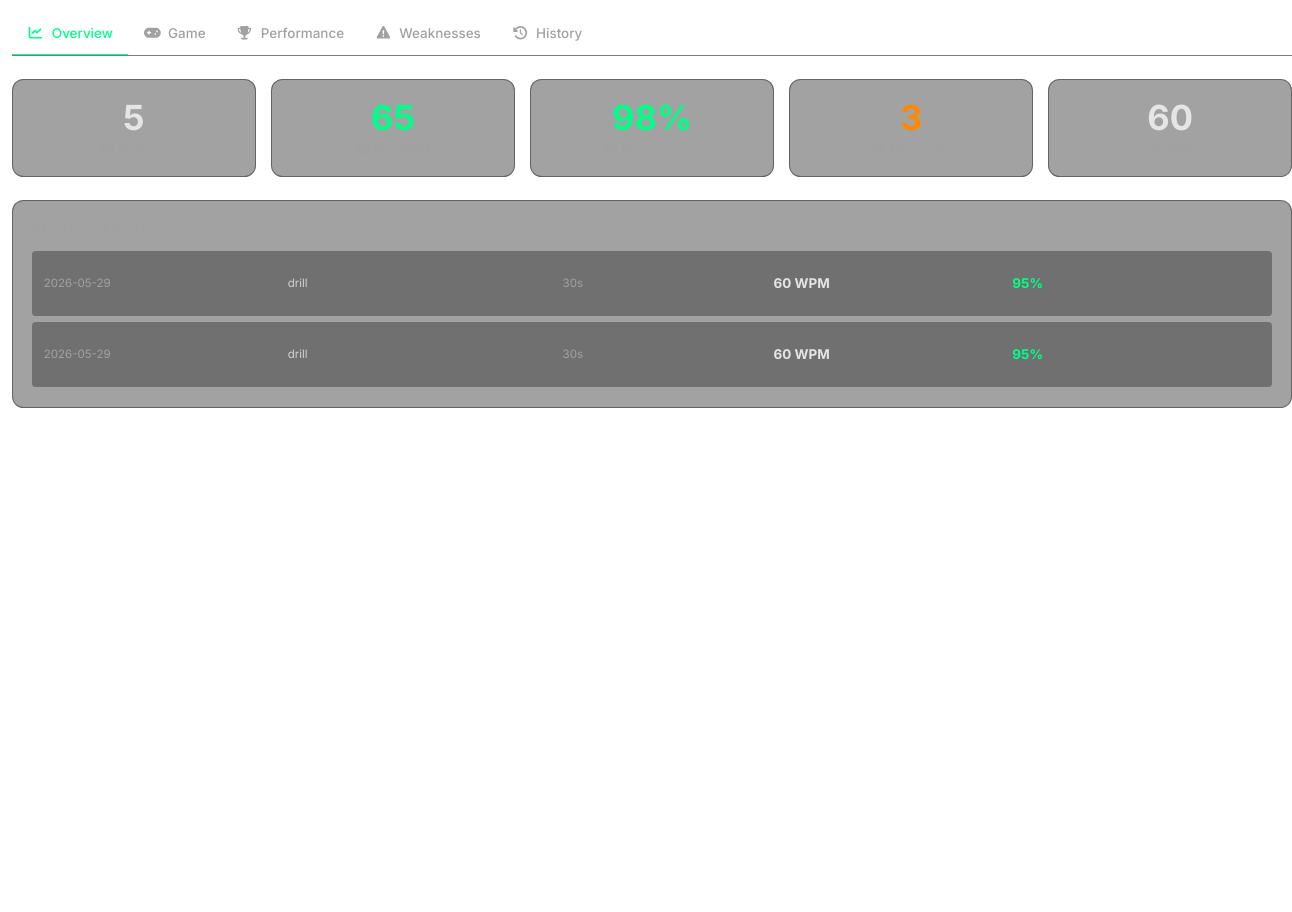
StatsTabs — US1: discoverable themed sections › should swap panels when a different tab is clicked (US1 #2)
When the user clicks the Performance tab
Click the tab "Performance" at (290, 34), box [221,12,360,56]
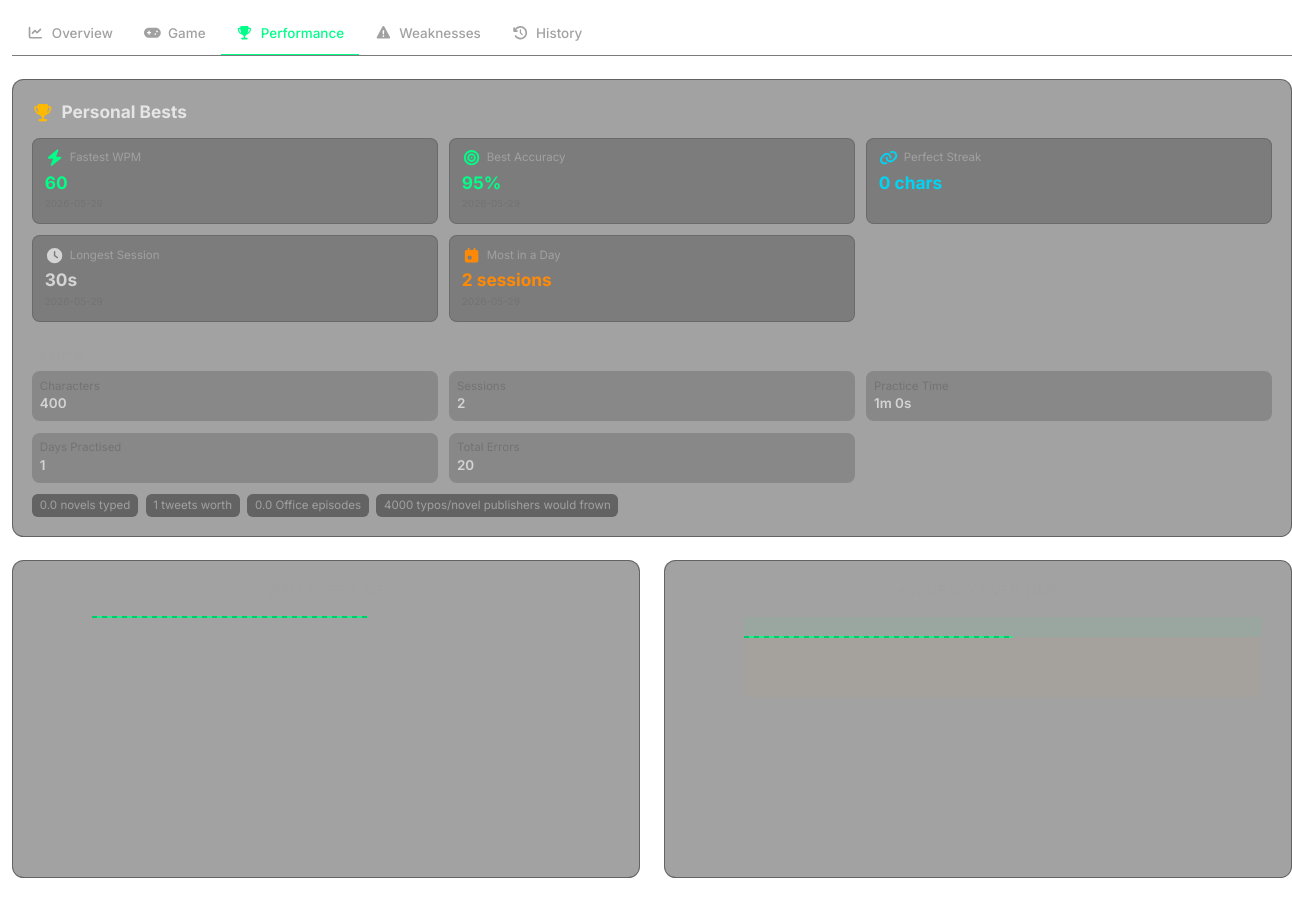
Check: the heading "Recent Sessions" is gone
